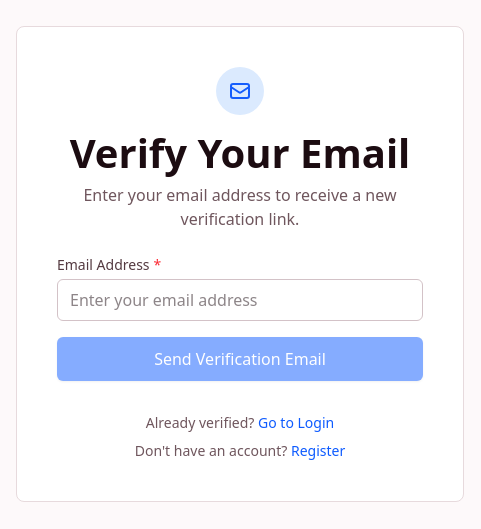
Scenario: ResendVerificationPage › validates email format
The width and height of the screenshot is (481, 529).
Type "invalid-email" into the field labelled "Email Address*" at {"x": 240, "y": 300}, box [57, 279, 423, 321]
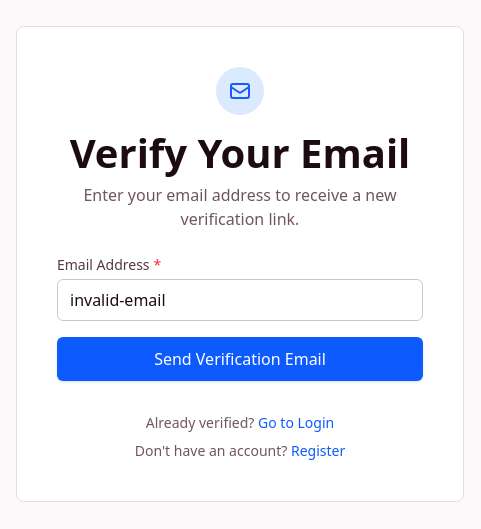
Click the button "Send Verification Email" at {"x": 240, "y": 359}, box [57, 337, 423, 381]
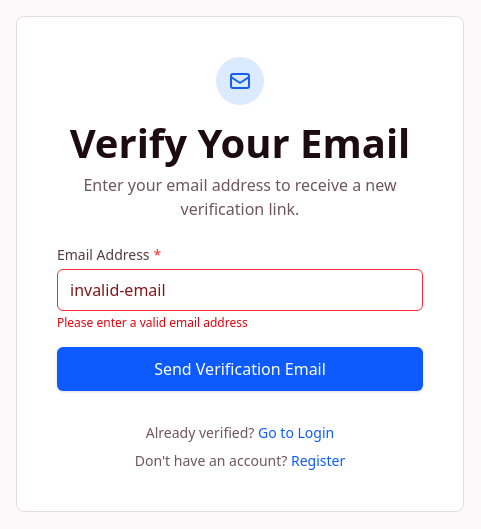
Check: the text "Please enter a valid email address" is shown, box [57, 314, 248, 331]
